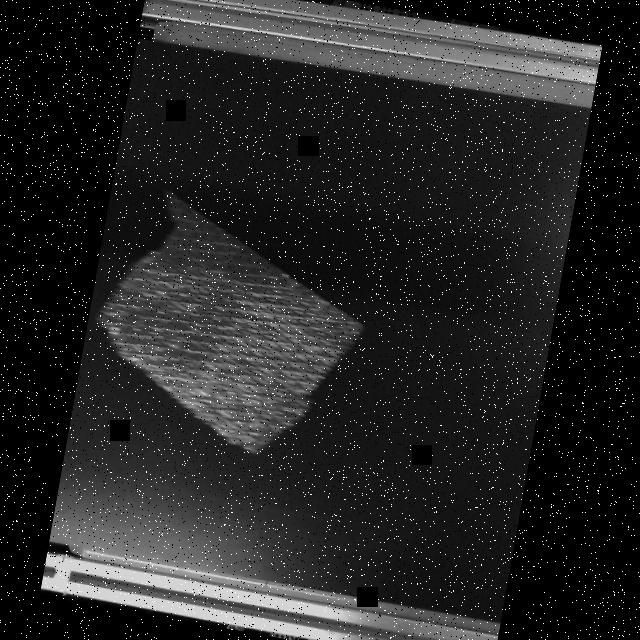scrap_plastic: (73, 182, 386, 473)
